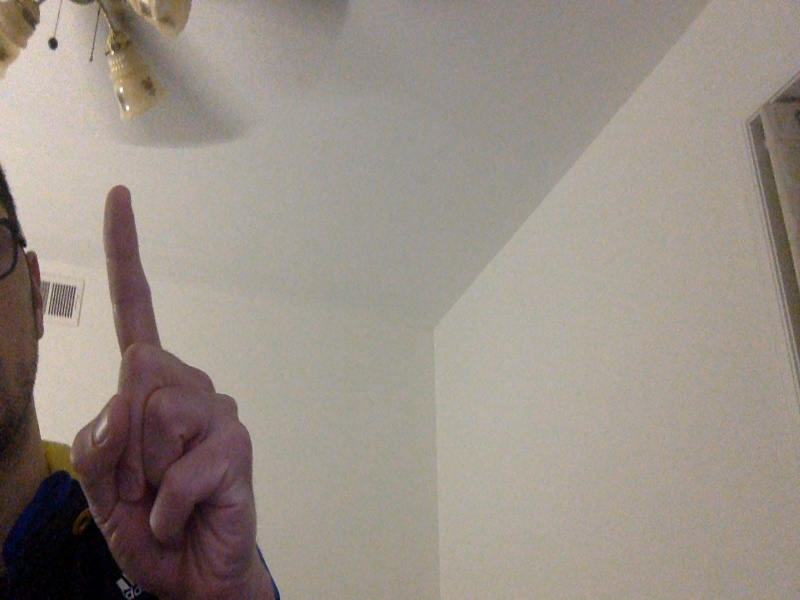1-hand: (71, 184, 256, 599)
